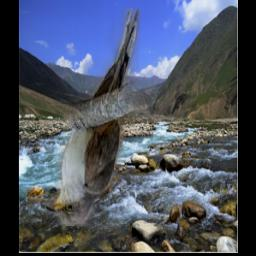Cuckoo: (45, 9, 140, 227)
